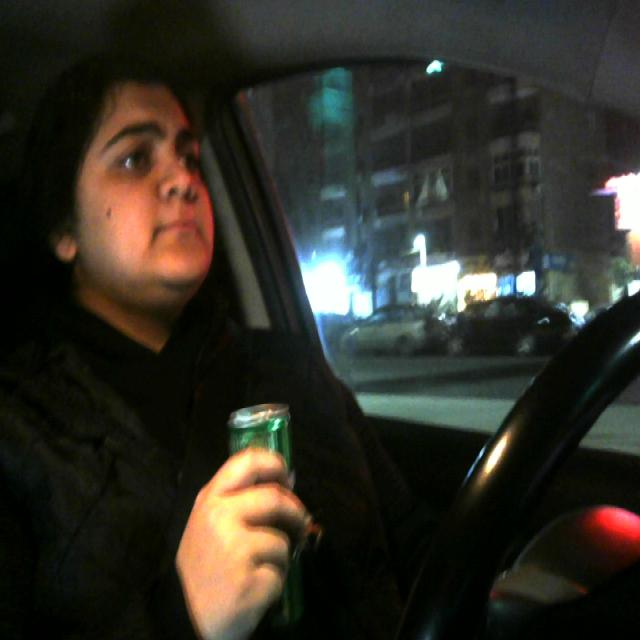drinking: (222, 398, 302, 616)
